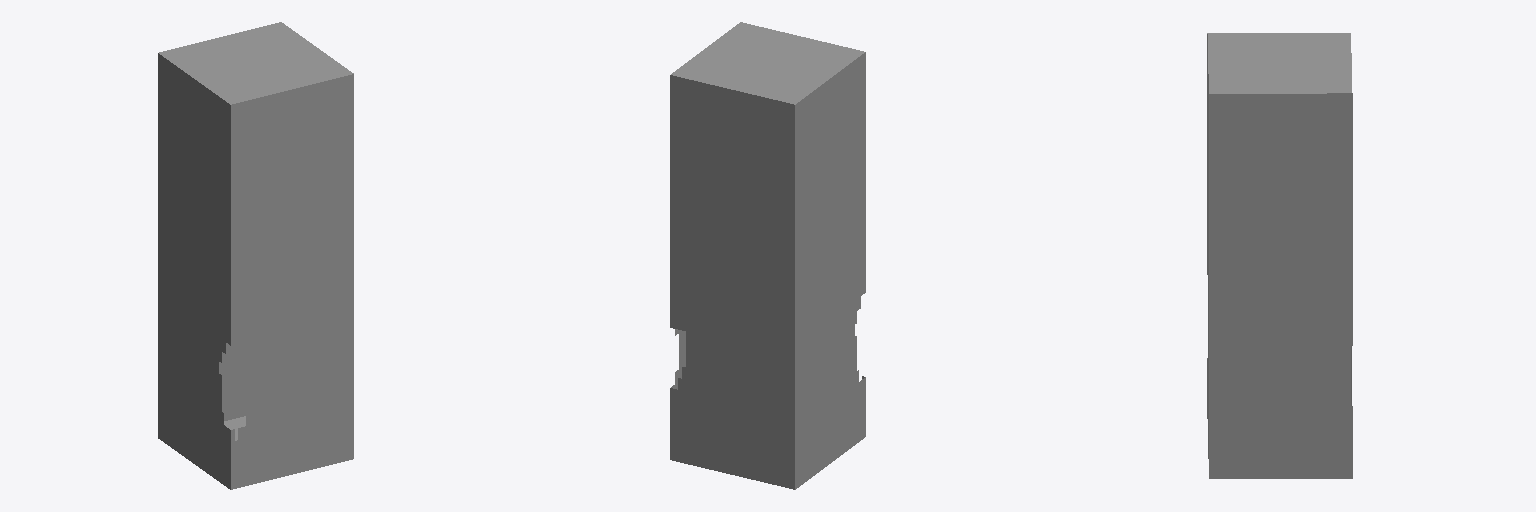
The model's file is Building.obj.
3 renders of one model, left to right at view 1: azimuth 30°, elevation 25°; view 2: azimuth 150°, elevation 25°; view 3: azimuth 270°, elevation 25°, orthographic.
Visible parts, largest first — view 1: Cube.022_Cube.035; view 2: Cube.022_Cube.035; view 3: Cube.022_Cube.035.
Boxes of the visible parts, box(x1,y1,x2,y2) form: Cube.022_Cube.035: box(158, 22, 353, 489); Cube.022_Cube.035: box(670, 22, 865, 489); Cube.022_Cube.035: box(1207, 33, 1352, 478).
Bounding box in the file's own units: 15.18 × 44.49 × 15.18.